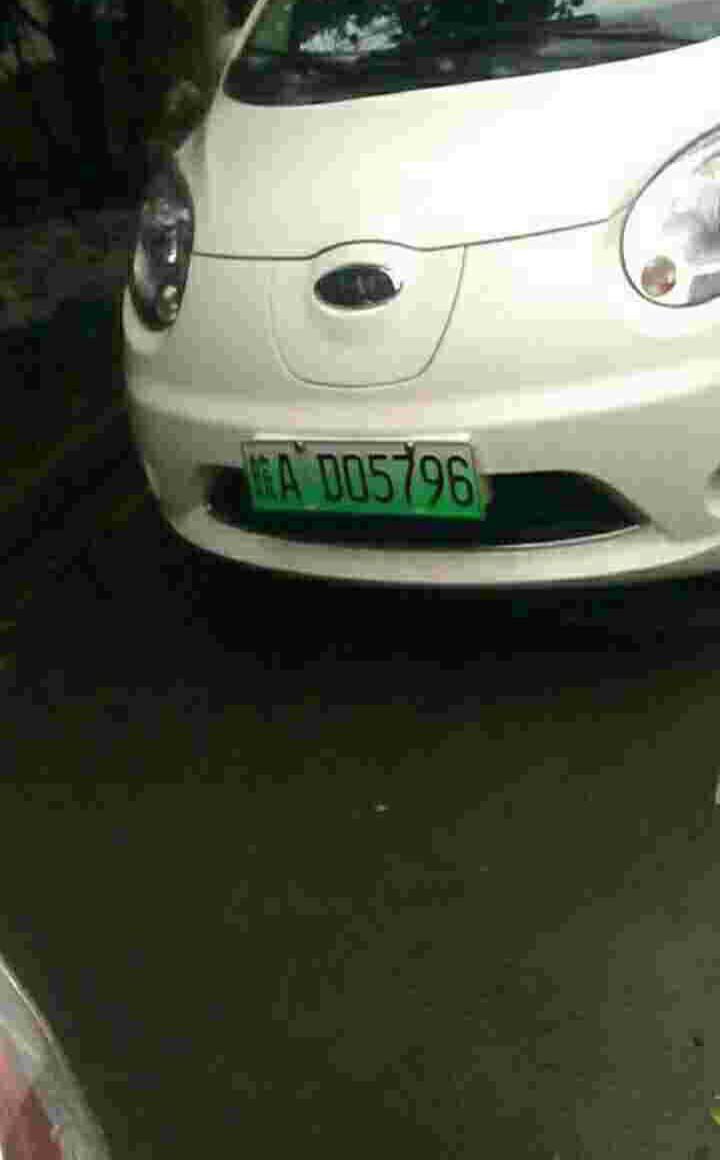car_green: (240, 436, 490, 529)
